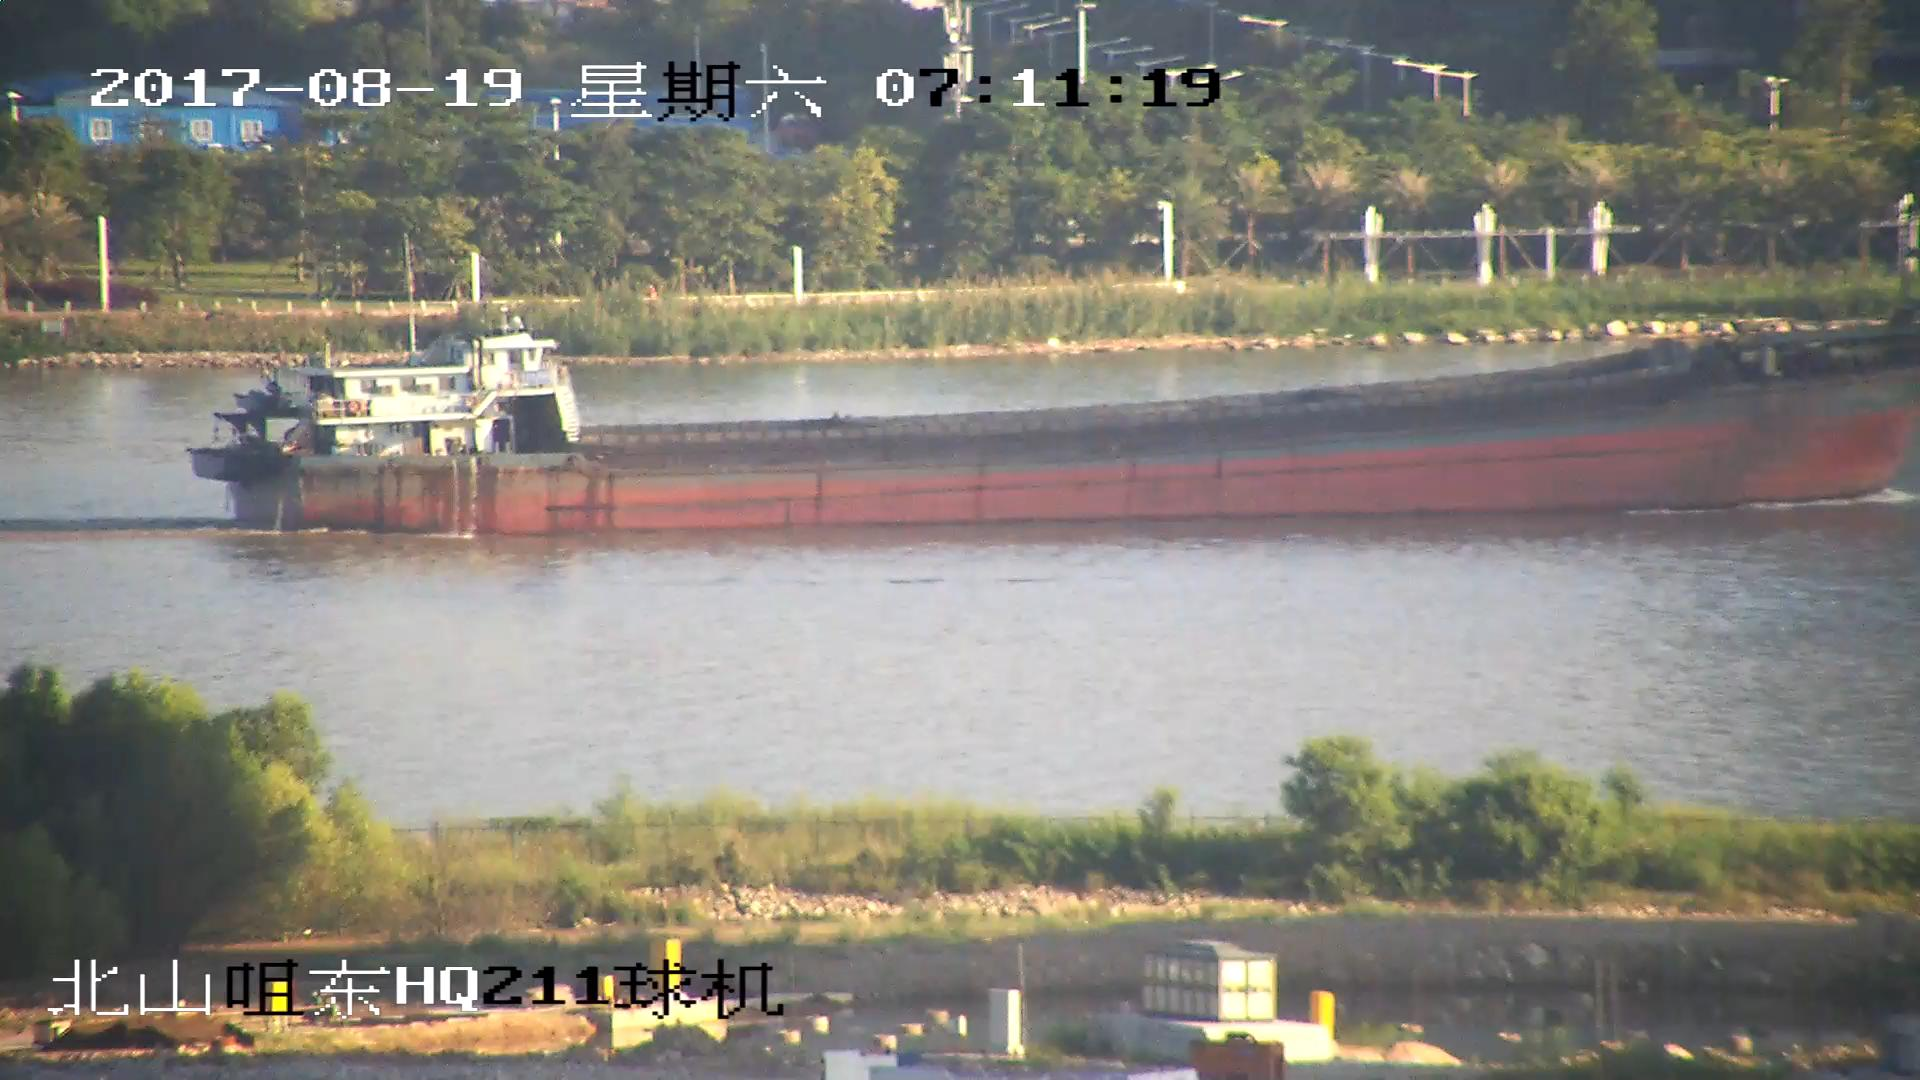bulk cargo carrier: (197, 304, 1920, 536)
